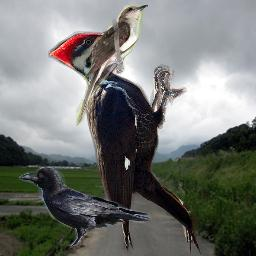Crow: (19, 167, 152, 249)
Cuckoo: (76, 4, 148, 126)
Woodpecker: (48, 18, 202, 254)
